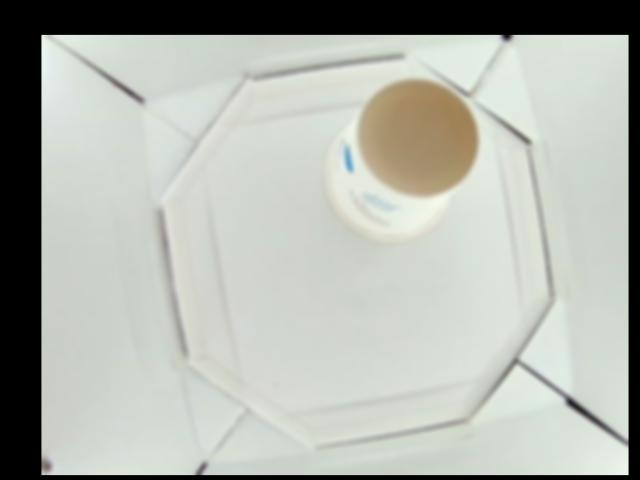Cup: (323, 77, 480, 241)
